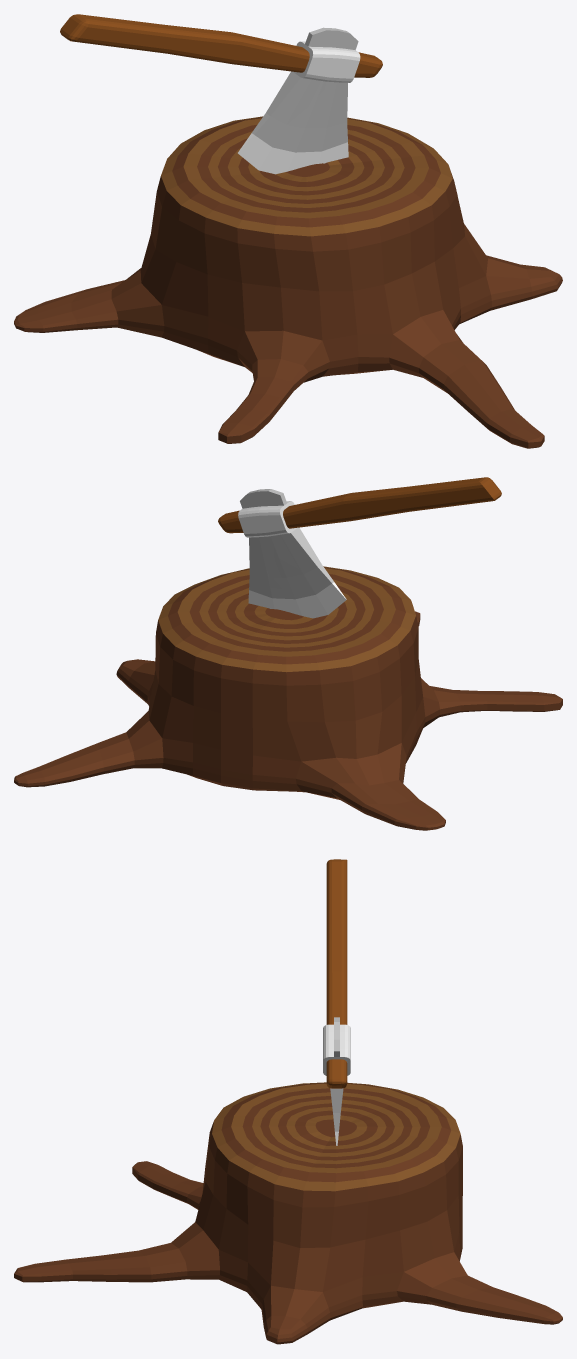
Rendered from treestump.fbx.
The picture shows the model from 3 angles, top to bottom: view 1: azimuth 30°, elevation 25°; view 2: azimuth 150°, elevation 25°; view 3: azimuth 270°, elevation 25°; orthographic projection. The views are drawn at different scales.
Visible parts, largest first — view 1: treestump; view 2: treestump; view 3: treestump.
Part boxes in pixels (bbox=[...]): treestump: bbox=[14, 14, 562, 448]; treestump: bbox=[14, 477, 562, 830]; treestump: bbox=[14, 859, 562, 1344].
Size of the model in its own units: 1.73 by 1.29 by 2.07.
